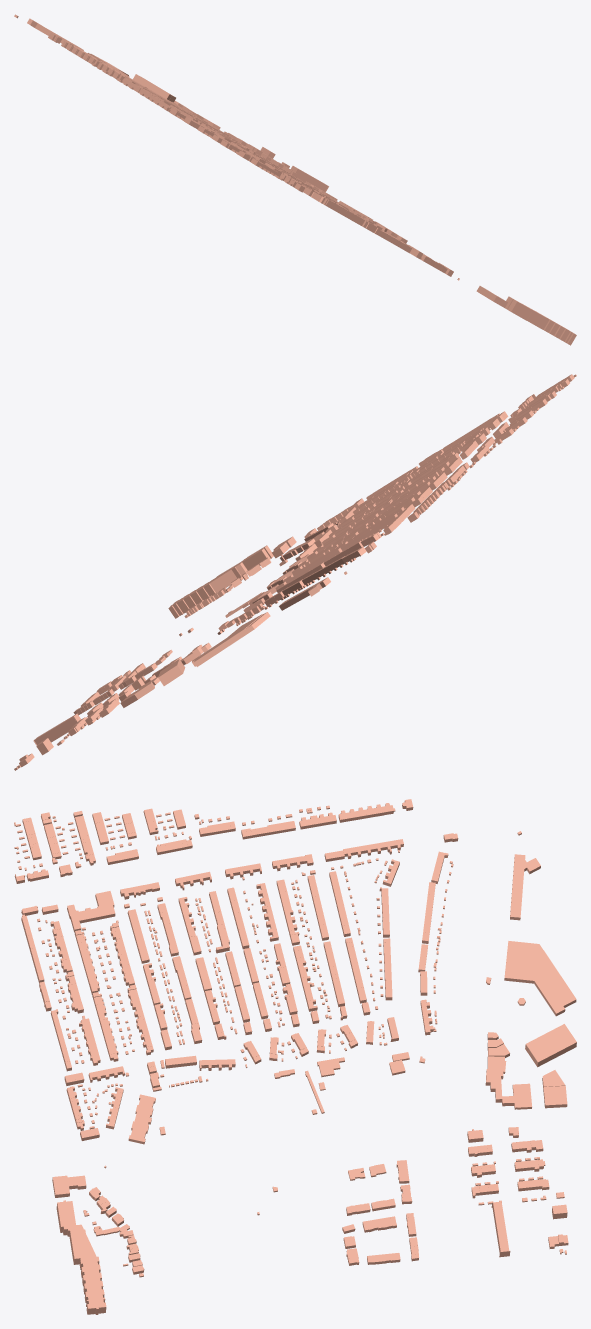
The picture shows the model from 3 angles, top to bottom: view 1: azimuth 30°, elevation 25°; view 2: azimuth 150°, elevation 25°; view 3: azimuth 270°, elevation 25°; orthographic projection. The views are drawn at different scales.
Size of the model in its own units: 549 by 406 by 648.
